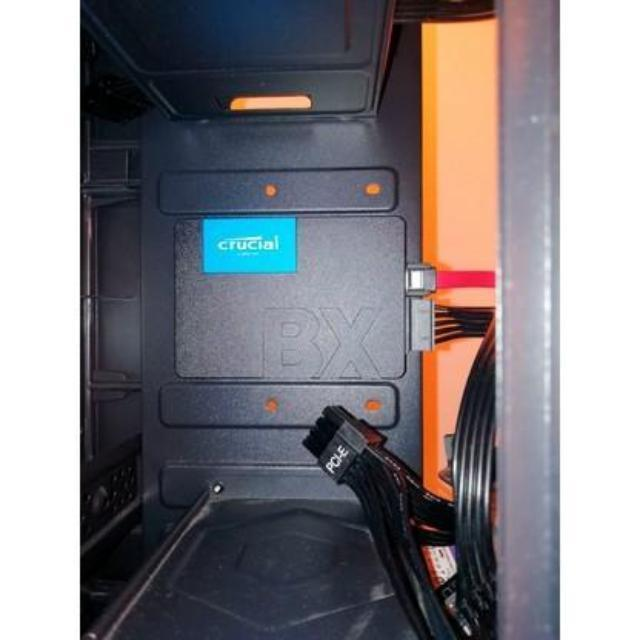DISK: (170, 210, 416, 390)
